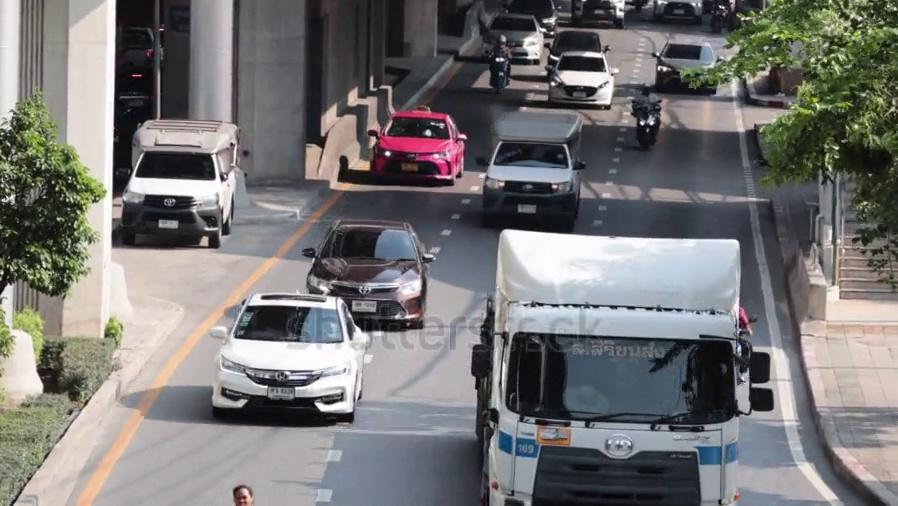rider: (632, 79, 662, 152), (487, 34, 512, 93), (741, 306, 756, 376), (711, 1, 732, 39)
with_helmate: (639, 83, 653, 96), (496, 35, 506, 46)
without_helmate: (232, 484, 254, 505)
